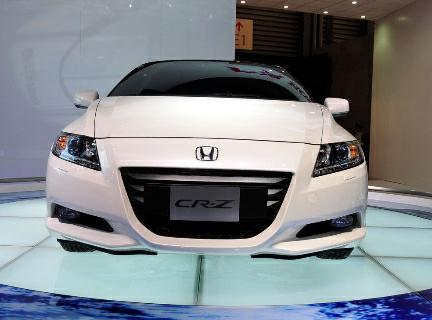本田-CR-Z: (43, 54, 373, 271)
